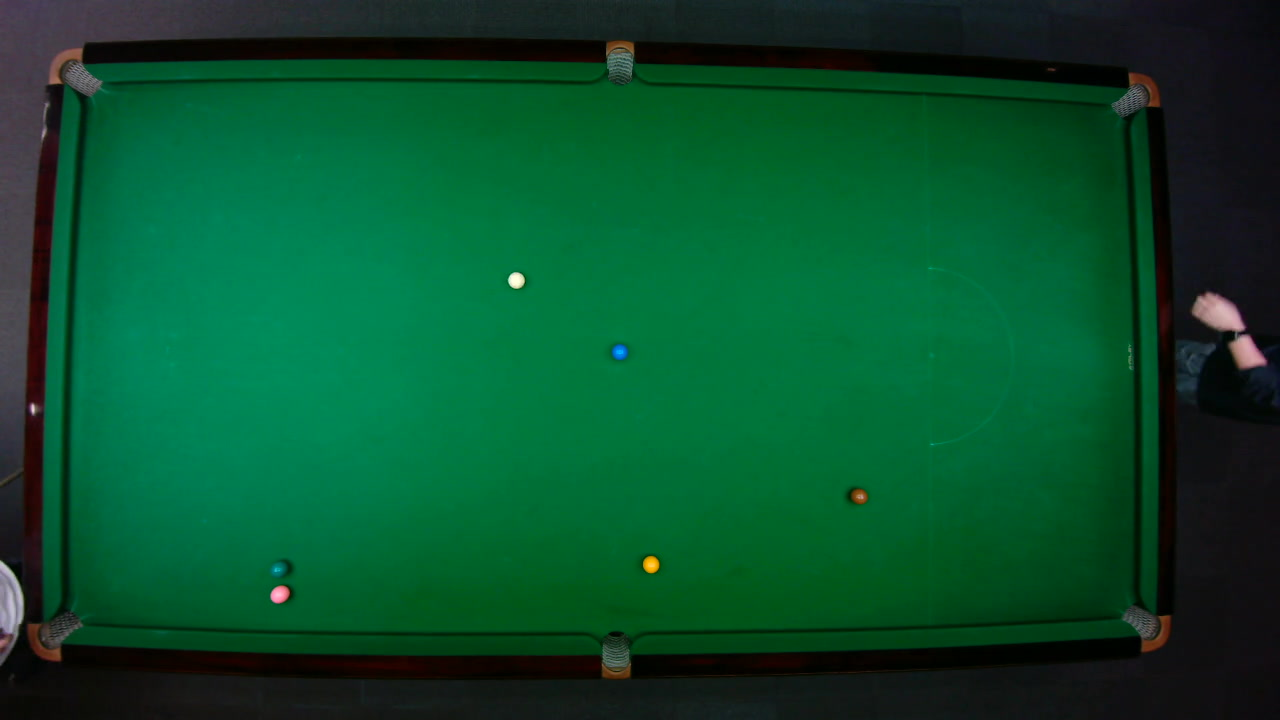bag: (26, 609, 84, 661), (45, 46, 102, 97), (1119, 603, 1171, 651), (1109, 71, 1161, 118), (600, 629, 630, 679), (605, 38, 633, 85)
blue: (610, 342, 628, 360)
brown: (848, 487, 868, 504)
green: (268, 559, 289, 576)
pink: (268, 583, 290, 604)
white: (506, 270, 526, 289)
yellow: (640, 554, 660, 573)
zone: (927, 266, 1013, 445)
